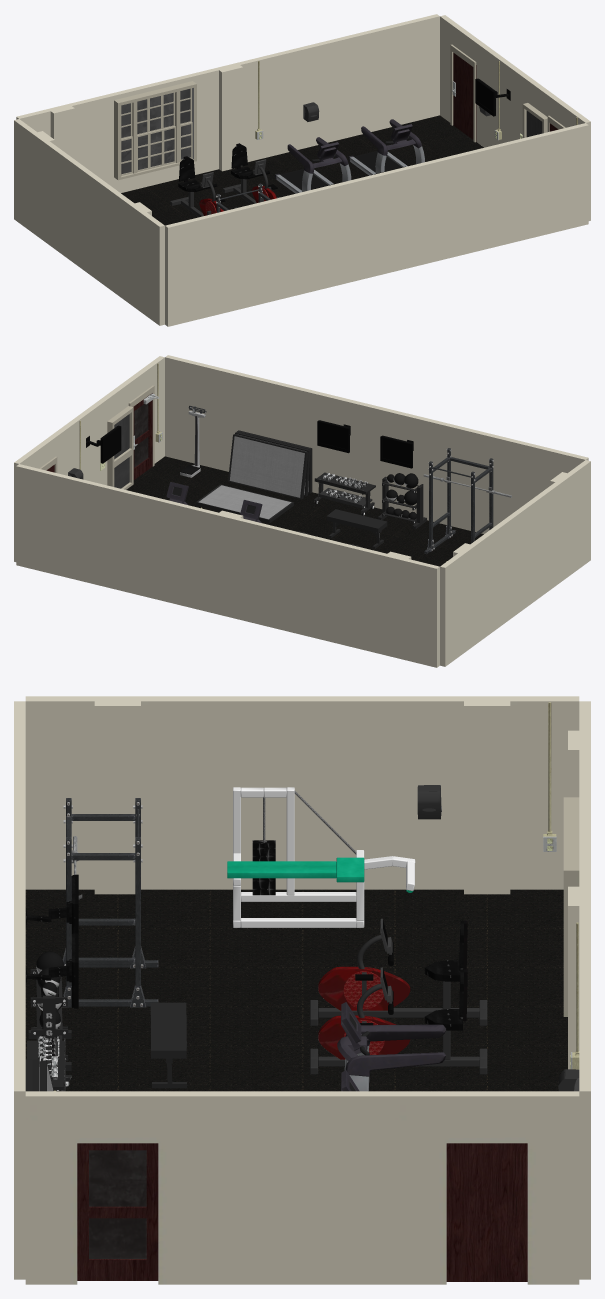
Rendered from gym.glb.
3 renders of one model, top to bottom at view 1: azimuth 30°, elevation 25°; view 2: azimuth 150°, elevation 25°; view 3: azimuth 270°, elevation 25°, orthographic. The views are drawn at different scales.
Parts seen in each view (by area): view 1: Wallswall5, Wallswall6, Wallswall9, Wallswall7, Wallswall8, Wallswall11, Wallswall10, WallspillarWall2, WindowssquareWindow3, WallspillarWall4, WallspillarWall3, Wallswall2 (+24 smaller); view 2: WallspillarWall1, WallspillarWall2, Wallswall1, Wallswall11, Wallswall10, Wallswall9, Wallswall6, WallspillarWall3, Wallswall7, Wallswall8, WallspillarWall4, Wallswall2 (+31 smaller); view 3: Wallswall3, WallspillarWall4, WallspillarWall3, Wallswall2, polySurface1, polySurface12, doorDoors, Leg_Machine, Indoor_Bike1, polySurface9, Bolt15, Indoor_Bike (+50 smaller).
Part boxes in pixels (left/top/right/bottom): Wallswall5: left=165, top=205, right=252, bottom=326; Wallswall6: left=249, top=184, right=336, bottom=306; Wallswall9: left=502, top=123, right=588, bottom=244; Wallswall7: left=333, top=164, right=420, bottom=285; Wallswall8: left=418, top=143, right=504, bottom=265; Wallswall11: left=353, top=14, right=439, bottom=135; Wallswall10: left=269, top=34, right=355, bottom=156; WallspillarWall2: left=185, top=55, right=271, bottom=174; WindowssquareWindow3: left=114, top=81, right=196, bottom=180; WallspillarWall4: left=111, top=190, right=164, bottom=325; WallspillarWall3: left=14, top=119, right=67, bottom=254; Wallswall2: left=62, top=154, right=115, bottom=289; WallspillarWall1: left=352, top=546, right=439, bottom=667; WallspillarWall2: left=184, top=505, right=271, bottom=626; Wallswall1: left=268, top=525, right=355, bottom=647; Wallswall11: left=16, top=464, right=102, bottom=585; Wallswall10: left=100, top=484, right=186, bottom=606; Wallswall9: left=165, top=355, right=251, bottom=471; Wallswall6: left=417, top=416, right=504, bottom=533; WallspillarWall3: left=440, top=531, right=493, bottom=666; Wallswall7: left=333, top=396, right=419, bottom=513; Wallswall8: left=249, top=375, right=335, bottom=493; WallspillarWall4: left=537, top=460, right=590, bottom=595; Wallswall2: left=489, top=495, right=542, bottom=630; Wallswall3: left=210, top=1091, right=394, bottom=1284; WallspillarWall4: left=25, top=696, right=210, bottom=894; WallspillarWall3: left=394, top=696, right=579, bottom=894; Wallswall2: left=210, top=696, right=394, bottom=889; polySurface1: left=25, top=1091, right=210, bottom=1284; polySurface12: left=394, top=1091, right=579, bottom=1284; doorDoors: left=446, top=1143, right=527, bottom=1281; Leg_Machine: left=227, top=787, right=415, bottom=927; Indoor_Bike1: left=310, top=918, right=487, bottom=1025; polySurface9: left=77, top=1143, right=158, bottom=1280; Bolt15: left=62, top=798, right=158, bottom=1007; Indoor_Bike: left=310, top=967, right=487, bottom=1074.
Size of the model in its own units: 41 by 9.01 by 25.
18 materials, 18 textured.
